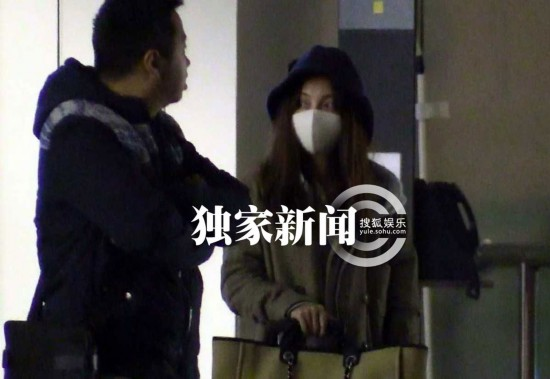face: (163, 25, 191, 104)
face_mask: (292, 84, 339, 156)
